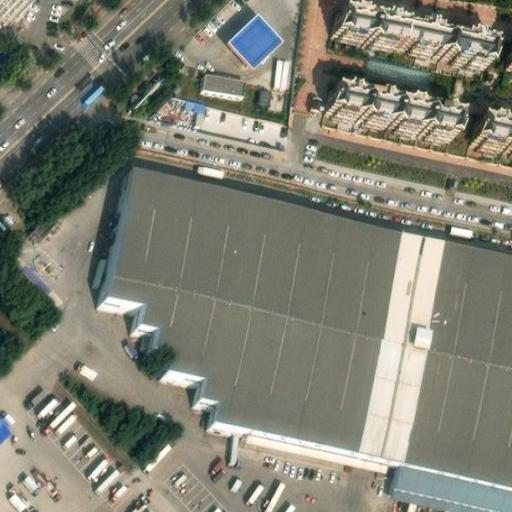building: (97, 171, 512, 512), (329, 4, 489, 64), (324, 83, 458, 136), (228, 5, 284, 62), (11, 255, 62, 307), (138, 431, 175, 470), (472, 110, 512, 146), (199, 69, 240, 92), (76, 78, 107, 108), (269, 55, 289, 90), (0, 412, 13, 445)
